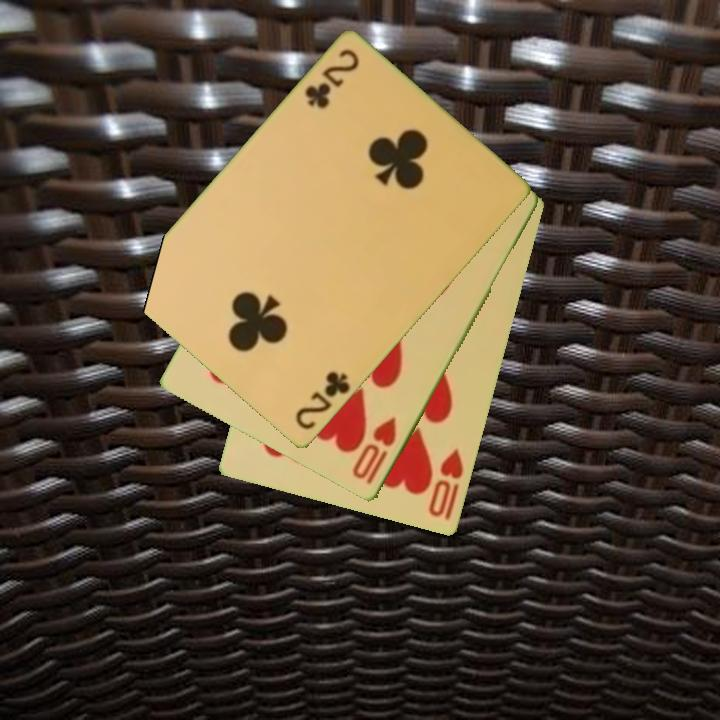10h: (348, 414, 400, 488), (425, 445, 467, 524)
2c: (301, 45, 362, 113), (292, 368, 354, 433)
